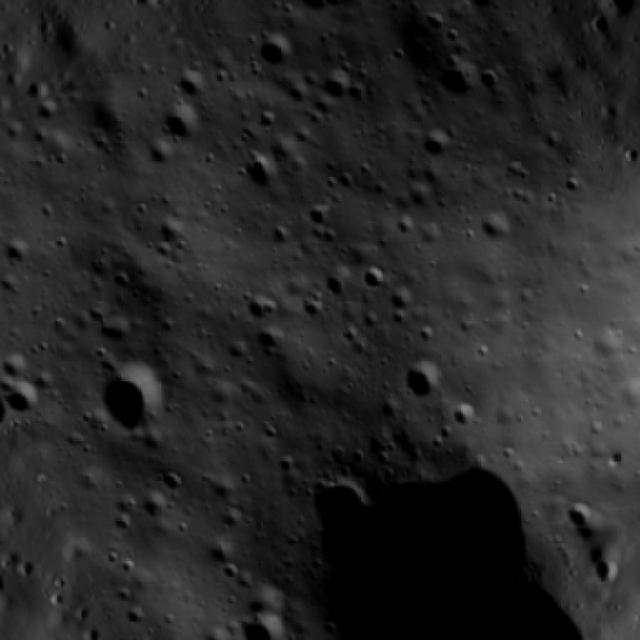crater: (87, 360, 167, 438), (402, 349, 456, 406), (237, 600, 294, 640), (352, 257, 398, 300), (558, 498, 600, 537), (446, 399, 482, 430)
